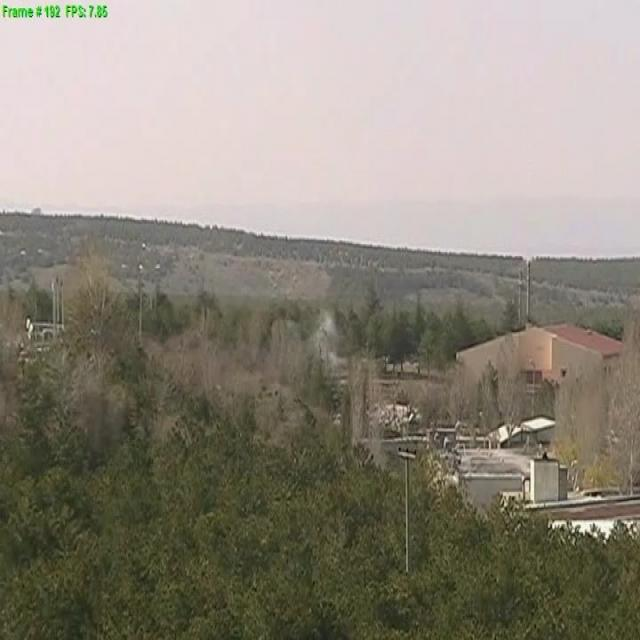smoke: (317, 318, 339, 373)
